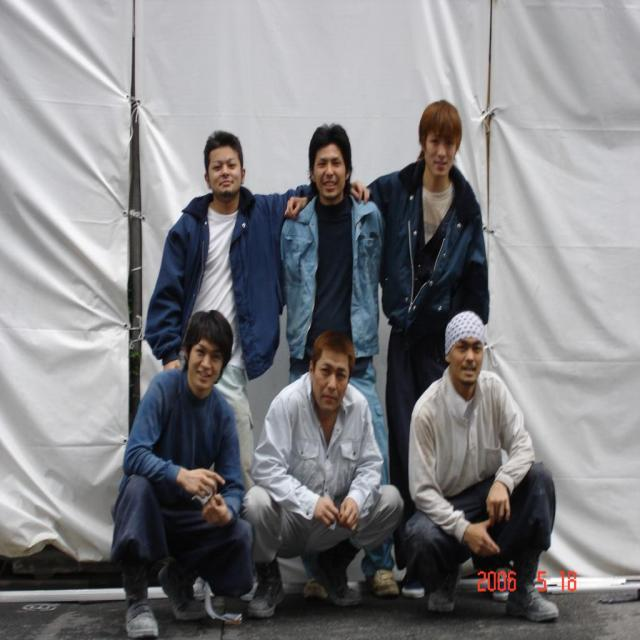nomask: (315, 350, 349, 413), (189, 334, 222, 389), (314, 142, 346, 196), (450, 334, 482, 384), (208, 145, 240, 192), (425, 127, 455, 176)
